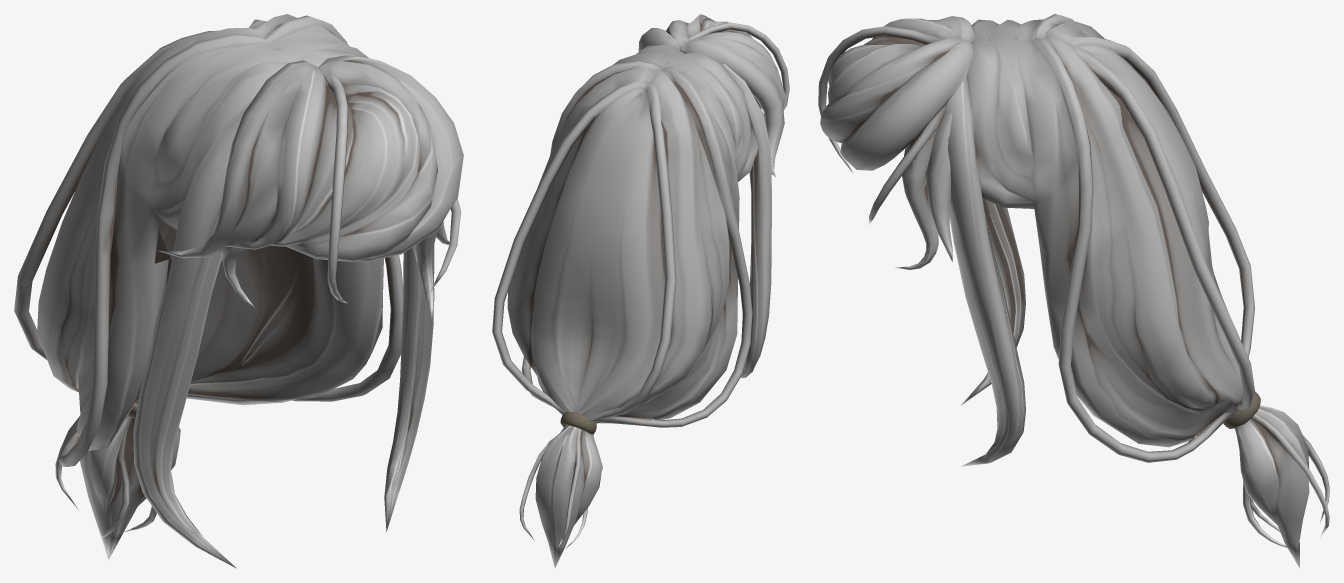
File: hair6.fbx
3 renders of one model, left to right at view 1: azimuth 30°, elevation 25°; view 2: azimuth 150°, elevation 25°; view 3: azimuth 270°, elevation 25°, orthographic. The views are drawn at different scales.
Visible parts, largest first — view 1: hair6; view 2: hair6; view 3: hair6.
Boxes of the visible parts, box(x1,y1,x2,y2) form: hair6: box(14, 14, 463, 568); hair6: box(492, 14, 789, 568); hair6: box(818, 14, 1329, 568).
Size of the model in its own units: 20.08 by 39.61 by 33.9.
Materials: 1 (1 with a texture image).
